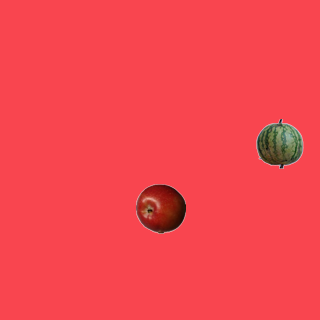Apple Braeburn: (135, 183, 185, 233)
Watermelon: (254, 118, 304, 168)
